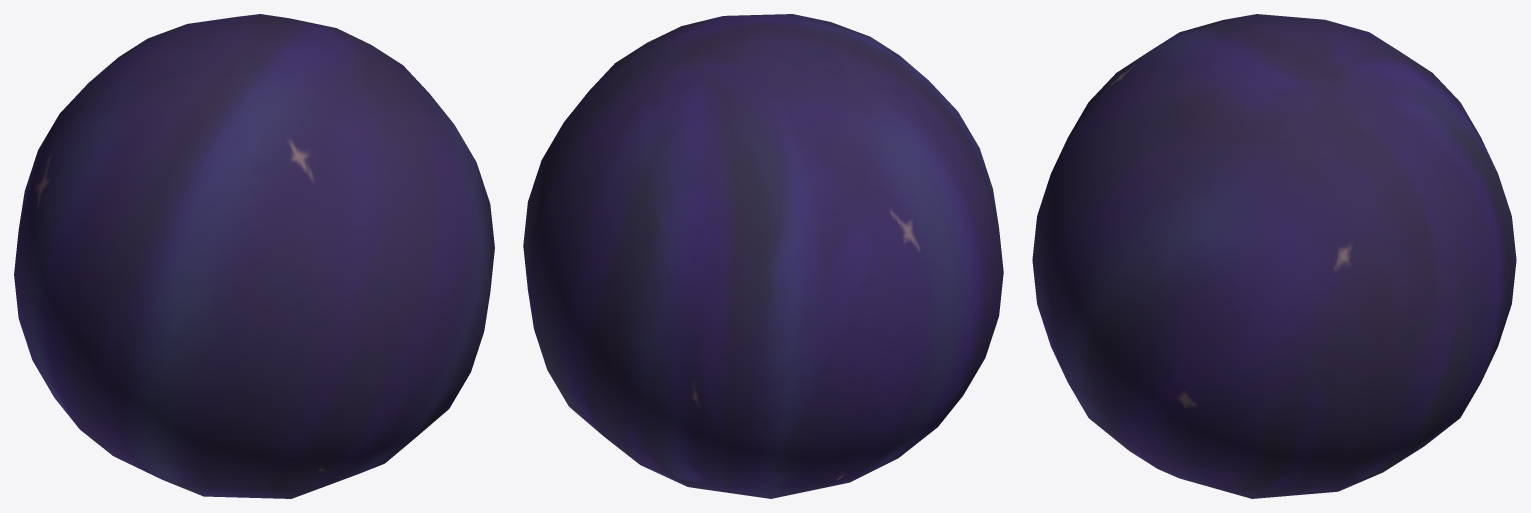
File: SM_Potion_Props_MagicBall_01.fbx
The picture shows the model from 3 angles, left to right: view 1: azimuth 30°, elevation 25°; view 2: azimuth 150°, elevation 25°; view 3: azimuth 270°, elevation 25°; orthographic projection.
Parts seen in each view (by area): view 1: SM_Potion_Props_MagicBall_01_LOD0; view 2: SM_Potion_Props_MagicBall_01_LOD0; view 3: SM_Potion_Props_MagicBall_01_LOD0.
Part boxes in pixels (box(x1,y1,x2,y2)): SM_Potion_Props_MagicBall_01_LOD0: box(14, 14, 494, 498); SM_Potion_Props_MagicBall_01_LOD0: box(523, 14, 1003, 498); SM_Potion_Props_MagicBall_01_LOD0: box(1032, 14, 1516, 498).
Size of what is drawn, in the model's own units: 13.86 by 14.05 by 13.86.
